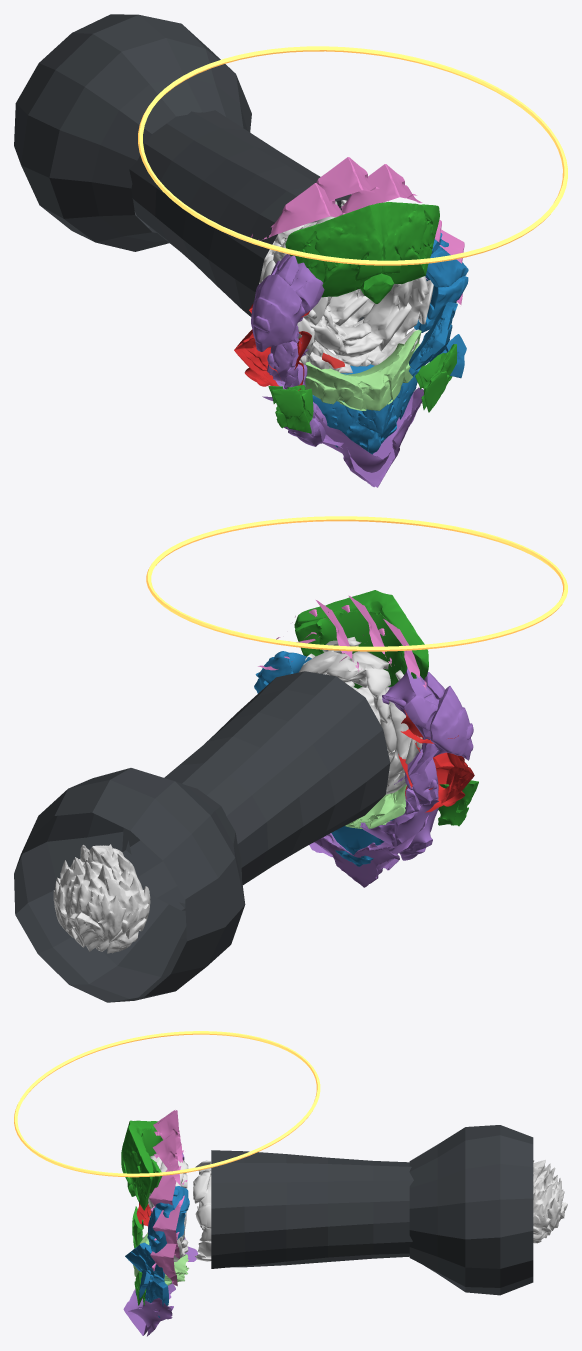
The model's file is DL_Aurora_v13.glb.
3 views of the same model, one above another, from view 1: azimuth 30°, elevation 25°; view 2: azimuth 150°, elevation 25°; view 3: azimuth 270°, elevation 25° (orthographic). The views are drawn at different scales.
Visible parts, largest first — view 1: DL_ThresholdChamber, DL_TunnelShell, DL_Shard_01, DL_TunnelRing_00, DL_Halo, DL_Shard_06, DL_Shard_16, DL_Shard_02, DL_Shard_03, DL_Shard_10, DL_Shard_15, DL_Shard_14 (+5 smaller); view 2: DL_ThresholdChamber, DL_TunnelShell, DL_LatentShell, DL_Shard_01, DL_Halo, DL_TunnelRing_00, DL_Shard_16, DL_Shard_14, DL_Shard_10, DL_Shard_17, DL_Shard_06, DL_Shard_02 (+3 smaller); view 3: DL_TunnelShell, DL_ThresholdChamber, DL_Halo, DL_Shard_01, DL_LatentShell, DL_Shard_05, DL_TunnelRing_02, DL_Shard_10, DL_Shard_06, DL_Shard_15, DL_Shard_07, DL_TunnelRing_00 (+2 smaller).
Boxes of the visible parts, bbox=[...] form: DL_ThresholdChamber: bbox=[14, 14, 251, 251]; DL_TunnelShell: bbox=[129, 110, 364, 321]; DL_Shard_01: bbox=[285, 201, 439, 303]; DL_TunnelRing_00: bbox=[297, 276, 433, 373]; DL_Halo: bbox=[138, 46, 567, 265]; DL_Shard_06: bbox=[250, 157, 422, 240]; DL_Shard_16: bbox=[251, 254, 324, 351]; DL_Shard_02: bbox=[305, 330, 421, 410]; DL_Shard_03: bbox=[312, 364, 417, 454]; DL_Shard_10: bbox=[262, 387, 423, 487]; DL_Shard_15: bbox=[414, 233, 468, 332]; DL_Shard_14: bbox=[267, 341, 327, 446]; DL_ThresholdChamber: bbox=[14, 768, 245, 1002]; DL_TunnelShell: bbox=[122, 671, 390, 910]; DL_LatentShell: bbox=[53, 844, 150, 953]; DL_Shard_01: bbox=[294, 590, 428, 688]; DL_Halo: bbox=[146, 516, 567, 651]; DL_TunnelRing_00: bbox=[299, 637, 422, 794]; DL_Shard_16: bbox=[382, 668, 473, 784]; DL_Shard_14: bbox=[360, 749, 438, 860]; DL_Shard_10: bbox=[309, 815, 428, 887]; DL_Shard_17: bbox=[398, 710, 474, 812]; DL_Shard_06: bbox=[276, 595, 426, 689]; DL_Shard_02: bbox=[345, 784, 406, 828]; DL_TunnelShell: bbox=[211, 1150, 413, 1268]; DL_ThresholdChamber: bbox=[409, 1125, 533, 1295]; DL_Halo: bbox=[14, 1031, 320, 1177]; DL_Shard_01: bbox=[121, 1120, 162, 1210]; DL_LatentShell: bbox=[533, 1159, 567, 1243]; DL_Shard_05: bbox=[149, 1150, 187, 1286]; DL_TunnelRing_02: bbox=[193, 1160, 211, 1261]; DL_Shard_10: bbox=[123, 1246, 197, 1336]; DL_Shard_06: bbox=[152, 1110, 182, 1185]; DL_Shard_15: bbox=[147, 1186, 189, 1253]; DL_Shard_07: bbox=[125, 1242, 164, 1283]; DL_TunnelRing_00: bbox=[148, 1153, 188, 1261].
Size of the model in its own units: 8.84 by 7.89 by 15.92.
